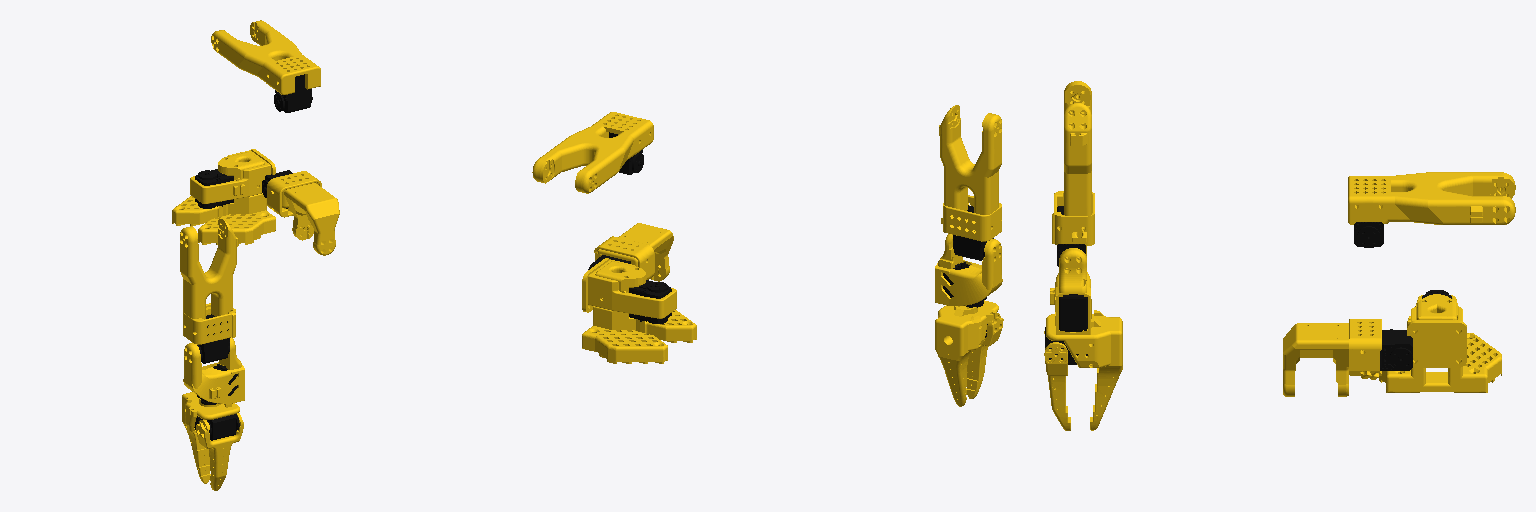
URDF robot description (so101_follower):
<?xml version="1.0" encoding="utf-8"?>
<!-- Generated using onshape-to-robot -->
<!-- Onshape document_id: 8f481cee516ba3c20e3a95ba -->
<robot name="so101_follower">

  <!-- Materials -->
  <material name="3d_printed">
    <color rgba="1.0 0.82 0.12 1.0"/>
  </material>
  <material name="sts3215">
    <color rgba="0.1 0.1 0.1 1.0"/>
  </material>

  <!-- Link base -->
  <link name="base_link">
    <inertial>
      <origin xyz="0 0 0" rpy="0 0 0"/>
      <mass value="0.147"/>
      <inertia ixx="0.000114686" ixy="-4.59787e-07" ixz="4.97151e-06" iyy="0.000136117" iyz="9.75275e-08" izz="0.000130364"/>
    </inertial>
    <!-- Part sts3215_03a_v1_5 -->
    <visual>
      <origin xyz="0.0125 -2.59846e-17 -0.0187" rpy="-1.7352e-15 4.18253e-17 3.14159"/>
      <geometry>
        <mesh filename="package://so101_description/onshape/assets/sts3215_03a_v1.stl"/>
      </geometry>
      <material name="sts3215"/>
    </visual>
    <collision>
      <origin xyz="0.0125 -2.59846e-17 -0.0187" rpy="-1.7352e-15 4.18253e-17 3.14159"/>
      <geometry>
        <mesh filename="package://so101_description/onshape/assets/sts3215_03a_v1.stl"/>
      </geometry>
    </collision>
    <!-- Part waveshare_mounting_plate_so101_v2 -->
    <visual>
      <origin xyz="0.0698624 0.0001 -0.015" rpy="1.5708 -3.8633e-14 -1.5708"/>
      <geometry>
        <mesh filename="package://so101_description/onshape/assets/waveshare_mounting_plate_so101_v2.stl"/>
      </geometry>
      <material name="3d_printed"/>
    </visual>
    <collision>
      <origin xyz="0.0698624 0.0001 -0.015" rpy="1.5708 -3.8633e-14 -1.5708"/>
      <geometry>
        <mesh filename="package://so101_description/onshape/assets/waveshare_mounting_plate_so101_v2.stl"/>
      </geometry>
    </collision>
    <!-- Part base_motor_holder_so101_v1 -->
    <visual>
      <origin xyz="0.0452 -1.04955e-16 -0.0648" rpy="1.5708 1.61129e-15 -1.5708"/>
      <geometry>
        <mesh filename="package://so101_description/onshape/assets/base_motor_holder_so101_v1.stl"/>
      </geometry>
      <material name="3d_printed"/>
    </visual>
    <collision>
      <origin xyz="0.0452 -1.04955e-16 -0.0648" rpy="1.5708 1.61129e-15 -1.5708"/>
      <geometry>
        <mesh filename="package://so101_description/onshape/assets/base_motor_holder_so101_v1.stl"/>
      </geometry>
    </collision>
    <!-- Part base_so101_v2 -->
    <visual>
      <origin xyz="0.0452 -9.97509e-17 -0.0648" rpy="1.5708 1.7352e-15 -1.5708"/>
      <geometry>
        <mesh filename="package://so101_description/onshape/assets/base_so101_v2.stl"/>
      </geometry>
      <material name="3d_printed"/>
    </visual>
    <collision>
      <origin xyz="0.0452 -9.97509e-17 -0.0648" rpy="1.5708 1.7352e-15 -1.5708"/>
      <geometry>
        <mesh filename="package://so101_description/onshape/assets/base_so101_v2.stl"/>
      </geometry>
    </collision>
  </link>

  <!-- Link shoulder -->
  <link name="shoulder_link">
    <inertial>
      <origin xyz="0 0 0" rpy="0 0 0"/>
      <mass value="0.100006"/>
      <inertia ixx="8.3759e-05" ixy="7.55525e-08" ixz="-1.16342e-06" iyy="8.10403e-05" iyz="1.54663e-07" izz="2.39783e-05"/>
    </inertial>
    <!-- Part sts3215_03a_v1_4 -->
    <visual>
      <origin xyz="0.0125 1.38778e-16 -0.0187" rpy="-9.23216e-31 3.33294e-29 -3.14159"/>
      <geometry>
        <mesh filename="package://so101_description/onshape/assets/sts3215_03a_v1.stl"/>
      </geometry>
      <material name="sts3215"/>
    </visual>
    <collision>
      <origin xyz="0.0125 1.38778e-16 -0.0187" rpy="-9.23216e-31 3.33294e-29 -3.14159"/>
      <geometry>
        <mesh filename="package://so101_description/onshape/assets/sts3215_03a_v1.stl"/>
      </geometry>
    </collision>
    <!-- Part motor_holder_so101_base_v1 -->
    <visual>
      <origin xyz="0.0700499 0.0372 -0.0181" rpy="-3.20577e-15 9.4369e-15 1.16575e-14"/>
      <geometry>
        <mesh filename="package://so101_description/onshape/assets/motor_holder_so101_base_v1.stl"/>
      </geometry>
      <material name="3d_printed"/>
    </visual>
    <collision>
      <origin xyz="0.0700499 0.0372 -0.0181" rpy="-3.20577e-15 9.4369e-15 1.16575e-14"/>
      <geometry>
        <mesh filename="package://so101_description/onshape/assets/motor_holder_so101_base_v1.stl"/>
      </geometry>
    </collision>
    <!-- Part rotation_pitch_so101_v1 -->
    <visual>
      <origin xyz="0.1006 -0.0426 -0.0183" rpy="3.14159 3.46945e-16 -1.5708"/>
      <geometry>
        <mesh filename="package://so101_description/onshape/assets/rotation_pitch_so101_v1.stl"/>
      </geometry>
      <material name="3d_printed"/>
    </visual>
    <collision>
      <origin xyz="0.1006 -0.0426 -0.0183" rpy="3.14159 3.46945e-16 -1.5708"/>
      <geometry>
        <mesh filename="package://so101_description/onshape/assets/rotation_pitch_so101_v1.stl"/>
      </geometry>
    </collision>
  </link>

  <!-- Link upper_arm -->
  <link name="upper_arm_link">
    <inertial>
      <origin xyz="0 0 0" rpy="0 0 0"/>
      <mass value="0.103"/>
      <inertia ixx="4.08002e-05" ixy="-1.97819e-05" ixz="-4.03016e-08" iyy="0.000147318" iyz="8.97326e-09" izz="0.000142487"/>
    </inertial>
    <!-- Part sts3215_03a_v1_3 -->
    <visual>
      <origin xyz="0.0125 2.77556e-17 -0.0187" rpy="2.16937e-29 -2.87611e-30 3.14159"/>
      <geometry>
        <mesh filename="package://so101_description/onshape/assets/sts3215_03a_v1.stl"/>
      </geometry>
      <material name="sts3215"/>
    </visual>
    <collision>
      <origin xyz="0.0125 2.77556e-17 -0.0187" rpy="2.16937e-29 -2.87611e-30 3.14159"/>
      <geometry>
        <mesh filename="package://so101_description/onshape/assets/sts3215_03a_v1.stl"/>
      </geometry>
    </collision>
    <!-- Part upper_arm_so101_v1 -->
    <visual>
      <origin xyz="0.04 0.047485 -0.0182" rpy="2.87611e-30 -1.02552e-29 1.5708"/>
      <geometry>
        <mesh filename="package://so101_description/onshape/assets/upper_arm_so101_v1.stl"/>
      </geometry>
      <material name="3d_printed"/>
    </visual>
    <collision>
      <origin xyz="0.04 0.047485 -0.0182" rpy="2.87611e-30 -1.02552e-29 1.5708"/>
      <geometry>
        <mesh filename="package://so101_description/onshape/assets/upper_arm_so101_v1.stl"/>
      </geometry>
    </collision>
  </link>

  <!-- Link lower_arm -->
  <link name="lower_arm_link">
    <inertial>
      <origin xyz="0 0 0" rpy="0 0 0"/>
      <mass value="0.104"/>
      <inertia ixx="2.87438e-05" ixy="7.41152e-06" ixz="1.26409e-06" iyy="0.000159844" iyz="-4.90188e-08" izz="0.00014529"/>
    </inertial>
    <!-- Part under_arm_so101_v1 -->
    <visual>
      <origin xyz="0.162084 -7.77677e-05 0.19717" rpy="-1.5708 -1.16157e-14 -3.14159"/>
      <geometry>
        <mesh filename="package://so101_description/onshape/assets/under_arm_so101_v1.stl"/>
      </geometry>
      <material name="3d_printed"/>
    </visual>
    <collision>
      <origin xyz="0.162084 -7.77677e-05 0.19717" rpy="-1.5708 -1.16157e-14 -3.14159"/>
      <geometry>
        <mesh filename="package://so101_description/onshape/assets/under_arm_so101_v1.stl"/>
      </geometry>
    </collision>
    <!-- Part motor_holder_so101_wrist_v1 -->
    <visual>
      <origin xyz="0.162084 2.22323e-05 0.19717" rpy="-1.5708 -1.16157e-14 -3.14159"/>
      <geometry>
        <mesh filename="package://so101_description/onshape/assets/motor_holder_so101_wrist_v1.stl"/>
      </geometry>
      <material name="3d_printed"/>
    </visual>
    <collision>
      <origin xyz="0.162084 2.22323e-05 0.19717" rpy="-1.5708 -1.16157e-14 -3.14159"/>
      <geometry>
        <mesh filename="package://so101_description/onshape/assets/motor_holder_so101_wrist_v1.stl"/>
      </geometry>
    </collision>
    <!-- Part sts3215_03a_v1 -->
    <visual>
      <origin xyz="0.219634 0.000422232 0.23437" rpy="1.5708 1.16157e-14 4.996e-15"/>
      <geometry>
        <mesh filename="package://so101_description/onshape/assets/sts3215_03a_v1.stl"/>
      </geometry>
      <material name="sts3215"/>
    </visual>
    <collision>
      <origin xyz="0.219634 0.000422232 0.23437" rpy="1.5708 1.16157e-14 4.996e-15"/>
      <geometry>
        <mesh filename="package://so101_description/onshape/assets/sts3215_03a_v1.stl"/>
      </geometry>
    </collision>
  </link>

  <!-- Link wrist -->
  <link name="wrist_link">
    <inertial>
      <origin xyz="0 0 0" rpy="0 0 0"/>
      <mass value="0.079"/>
      <inertia ixx="3.68263e-05" ixy="1.7893e-08" ixz="-5.28128e-08" iyy="2.5391e-05" iyz="3.6412e-06" izz="2.1e-05"/>
    </inertial>
    <!-- Part wrist_roll_pitch_so101_v2 -->
    <visual>
      <origin xyz="0.0013672 -0.0290022 0.0181" rpy="-1.5708 -1.5708 0"/>
      <geometry>
        <mesh filename="package://so101_description/onshape/assets/wrist_roll_pitch_so101_v2.stl"/>
      </geometry>
      <material name="3d_printed"/>
    </visual>
    <collision>
      <origin xyz="0.0013672 -0.0290022 0.0181" rpy="-1.5708 -1.5708 0"/>
      <geometry>
        <mesh filename="package://so101_description/onshape/assets/wrist_roll_pitch_so101_v2.stl"/>
      </geometry>
    </collision>
    <!-- Part sts3215_03a_no_horn_v1 -->
    <visual>
      <origin xyz="0.0013672 -0.0434022 0.0306" rpy="1.5708 1.5708 0"/>
      <geometry>
        <mesh filename="package://so101_description/onshape/assets/sts3215_03a_no_horn_v1.stl"/>
      </geometry>
      <material name="sts3215"/>
    </visual>
    <collision>
      <origin xyz="0.0013672 -0.0434022 0.0306" rpy="1.5708 1.5708 0"/>
      <geometry>
        <mesh filename="package://so101_description/onshape/assets/sts3215_03a_no_horn_v1.stl"/>
      </geometry>
    </collision>
  </link>

  <!-- Link gripper -->
  <link name="gripper_link">
    <inertial>
      <origin xyz="0 0 0" rpy="0 0 0"/>
      <mass value="0.087"/>
      <inertia ixx="2.75087e-05" ixy="-3.35241e-07" ixz="-5.7352e-06" iyy="4.33657e-05" iyz="-5.17847e-08" izz="3.45059e-05"/>
    </inertial>
    <!-- Part wrist_roll_follower_so101_v1 -->
    <visual>
      <origin xyz="-0.00665289 0.00415995 0.000949706" rpy="3.14159 -5.55112e-17 0"/>
      <geometry>
        <mesh filename="package://so101_description/onshape/assets/wrist_roll_follower_so101_v1.stl"/>
      </geometry>
      <material name="3d_printed"/>
    </visual>
    <collision>
      <origin xyz="-0.00665289 0.00415995 0.000949706" rpy="3.14159 -5.55112e-17 0"/>
      <geometry>
        <mesh filename="package://so101_description/onshape/assets/wrist_roll_follower_so101_v1.stl"/>
      </geometry>
    </collision>
    <!-- Part sts3215_03a_v1_2 -->
    <visual>
      <origin xyz="0.00104711 0.00447817 -0.0234" rpy="-1.5708 -5.55111e-17 6.93889e-17"/>
      <geometry>
        <mesh filename="package://so101_description/onshape/assets/sts3215_03a_v1.stl"/>
      </geometry>
      <material name="sts3215"/>
    </visual>
    <collision>
      <origin xyz="0.00104711 0.00447817 -0.0234" rpy="-1.5708 -5.55111e-17 6.93889e-17"/>
      <geometry>
        <mesh filename="package://so101_description/onshape/assets/sts3215_03a_v1.stl"/>
      </geometry>
    </collision>
  </link>

  <!-- Gripper frame (dummy link + fixed joint) -->
  <link name="gripper_frame_link">
    <origin xyz="0 0 0" rpy="0 -0 0"/>
    <inertial>
      <origin xyz="0 0 0" rpy="0 0 0"/>
      <mass value="1e-9"/>
      <inertia ixx="0" ixy="0" ixz="0" iyy="0" iyz="0" izz="0"/>
    </inertial>
  </link>

  <joint name="gripper_frame_joint" type="fixed">
    <origin xyz="-0.0145529 0.00416005 -0.0981274" rpy="-1.5708 -1.88934e-31 -1.5708"/>
    <parent link="gripper_link"/>
    <child link="gripper_frame_link"/>
    <axis xyz="0 0 0"/>
  </joint>

  <!-- Link moving_jaw_so101_v1 -->
  <link name="moving_jaw_so101_v1_link">
    <inertial>
      <origin xyz="0 0 0" rpy="0 0 0"/>
      <mass value="0.012"/>
      <inertia ixx="6.61427e-06" ixy="-3.19807e-07" ixz="-5.90717e-09" iyy="1.89032e-06" iyz="-1.09945e-07" izz="5.28738e-06"/>
    </inertial>
    <!-- Part moving_jaw_so101_v1 -->
    <visual>
      <origin xyz="0.000944164 0.000490603 0.0189" rpy="9.53145e-17 -0 0"/>
      <geometry>
        <mesh filename="package://so101_description/onshape/assets/moving_jaw_so101_v1.stl"/>
      </geometry>
      <material name="3d_printed"/>
    </visual>
    <collision>
      <origin xyz="0.000944164 0.000490603 0.0189" rpy="9.53145e-17 -0 0"/>
      <geometry>
        <mesh filename="package://so101_description/onshape/assets/moving_jaw_so101_v1.stl"/>
      </geometry>
    </collision>
  </link>

  <!-- Joint from gripper to moving_jaw_so101_v1 -->
  <joint name="gripper" type="revolute">
    <origin xyz="0.0135471 0.0231782 -0.0234" rpy="1.5708 -5.55107e-17 2.01228e-16"/>
    <parent link="gripper_link"/>
    <child link="moving_jaw_so101_v1_link"/>
    <axis xyz="0 0 1"/>
    <limit effort="10" velocity="10" lower="-0.174533" upper="1.74533"/>
  </joint>

  <transmission name="gripper_trans">
    <type>transmission_interface/SimpleTransmission</type>
    <joint name="gripper">
      <hardwareInterface>hardware_interface/PositionJointInterface</hardwareInterface>
    </joint>
    <actuator name="motor6">
      <hardwareInterface>hardware_interface/PositionJointInterface</hardwareInterface>
      <mechanicalReduction>1</mechanicalReduction>
    </actuator>
  </transmission>

  <!-- Joint from wrist to gripper -->
  <joint name="wrist_roll" type="revolute">
    <origin xyz="0.0013672 -0.0621022 0.0181" rpy="1.5708 2.72806e-17 -3.14159"/>
    <parent link="wrist_link"/>
    <child link="gripper_link"/>
    <axis xyz="0 0 1"/>
    <limit effort="10" velocity="10" lower="-2.74385" upper="2.84121"/>
  </joint>

  <transmission name="wrist_roll_trans">
    <type>transmission_interface/SimpleTransmission</type>
    <joint name="wrist_roll">
      <hardwareInterface>hardware_interface/PositionJointInterface</hardwareInterface>
    </joint>
    <actuator name="motor5">
      <hardwareInterface>hardware_interface/PositionJointInterface</hardwareInterface>
      <mechanicalReduction>1</mechanicalReduction>
    </actuator>
  </transmission>

  <!-- Joint from lower_arm to wrist -->
  <joint name="wrist_flex" type="revolute">
    <origin xyz="0.232134 -0.0182778 0.23437" rpy="-1.5708 1.5708 0"/>
    <parent link="lower_arm_link"/>
    <child link="wrist_link"/>
    <axis xyz="0 0 1"/>
    <limit effort="10" velocity="10" lower="-1.65806" upper="1.65806"/>
  </joint>

  <transmission name="wrist_flex_trans">
    <type>transmission_interface/SimpleTransmission</type>
    <joint name="wrist_flex">
      <hardwareInterface>hardware_interface/PositionJointInterface</hardwareInterface>
    </joint>
    <actuator name="motor4">
      <hardwareInterface>hardware_interface/PositionJointInterface</hardwareInterface>
      <mechanicalReduction>1</mechanicalReduction>
    </actuator>
  </transmission>

  <!-- Joint from upper_arm to lower_arm -->
  <joint name="elbow_flex" type="revolute">
    <origin xyz="0.0959629 -0.0182778 0.22968" rpy="-1.5708 -1.16157e-14 -3.14159"/>
    <parent link="upper_arm_link"/>
    <child link="lower_arm_link"/>
    <axis xyz="0 0 1"/>
    <limit effort="10" velocity="10" lower="-1.69" upper="1.69"/>
  </joint>

  <transmission name="elbow_flex_trans">
    <type>transmission_interface/SimpleTransmission</type>
    <joint name="elbow_flex">
      <hardwareInterface>hardware_interface/PositionJointInterface</hardwareInterface>
    </joint>
    <actuator name="motor3">
      <hardwareInterface>hardware_interface/PositionJointInterface</hardwareInterface>
      <mechanicalReduction>1</mechanicalReduction>
    </actuator>
  </transmission>

  <!-- Joint from shoulder to upper_arm -->
  <joint name="shoulder_lift" type="revolute">
    <origin xyz="0.0274904 0.113842 1.04083e-17" rpy="2.87611e-30 -1.02552e-29 1.5708"/>
    <parent link="shoulder_link"/>
    <child link="upper_arm_link"/>
    <axis xyz="0 0 1"/>
    <limit effort="10" velocity="10" lower="-1.74533" upper="1.74533"/>
  </joint>

  <transmission name="shoulder_lift_trans">
    <type>transmission_interface/SimpleTransmission</type>
    <joint name="shoulder_lift">
      <hardwareInterface>hardware_interface/PositionJointInterface</hardwareInterface>
    </joint>
    <actuator name="motor2">
      <hardwareInterface>hardware_interface/PositionJointInterface</hardwareInterface>
      <mechanicalReduction>1</mechanicalReduction>
    </actuator>
  </transmission>

  <!-- Joint from base to shoulder -->
  <joint name="shoulder_pan" type="revolute">
    <origin xyz="0.0542 -0.0303992 -0.0182778" rpy="1.5708 3.46945e-16 -1.5708"/>
    <parent link="base_link"/>
    <child link="shoulder_link"/>
    <axis xyz="0 0 1"/>
    <limit effort="10" velocity="10" lower="-1.91986" upper="1.91986"/>
  </joint>

  <transmission name="shoulder_pan_trans">
    <type>transmission_interface/SimpleTransmission</type>
    <joint name="shoulder_pan">
      <hardwareInterface>hardware_interface/PositionJointInterface</hardwareInterface>
    </joint>
    <actuator name="motor1">
      <hardwareInterface>hardware_interface/PositionJointInterface</hardwareInterface>
      <mechanicalReduction>1</mechanicalReduction>
    </actuator>
  </transmission>

</robot>

--- Facts derived from the render (not from the file) ---
Views: 3 orthographic renders of the robot side by side, from view 1: azimuth 30°, elevation 25°; view 2: azimuth 150°, elevation 25°; view 3: azimuth 270°, elevation 25°.
Robot: so101_follower — 8 links, 7 joints (6 revolute, 1 fixed); root link base_link; default pose: all joints at 0.
Visible links, largest first — view 1: base_link, lower_arm_link, upper_arm_link, shoulder_link, wrist_link, gripper_link, moving_jaw_so101_v1_link; view 2: base_link, lower_arm_link, upper_arm_link, gripper_link, wrist_link, shoulder_link, moving_jaw_so101_v1_link; view 3: upper_arm_link, base_link, shoulder_link, lower_arm_link, gripper_link, wrist_link, moving_jaw_so101_v1_link.
Link boxes in pixels (<box>): base_link: <box>172,149,275,244</box>; lower_arm_link: <box>180,219,238,363</box>; upper_arm_link: <box>211,20,320,112</box>; shoulder_link: <box>262,170,339,255</box>; wrist_link: <box>183,337,244,407</box>; gripper_link: <box>182,392,239,483</box>; moving_jaw_so101_v1_link: <box>196,413,243,490</box>; base_link: <box>582,258,696,363</box>; lower_arm_link: <box>939,105,1001,260</box>; upper_arm_link: <box>532,112,653,193</box>; gripper_link: <box>935,300,998,406</box>; wrist_link: <box>935,234,1002,307</box>; shoulder_link: <box>588,223,673,281</box>; moving_jaw_so101_v1_link: <box>966,313,1003,398</box>; upper_arm_link: <box>1348,172,1515,247</box>; base_link: <box>1379,290,1501,392</box>; shoulder_link: <box>1283,319,1412,396</box>; lower_arm_link: <box>1052,81,1094,266</box>; gripper_link: <box>1045,310,1122,430</box>; wrist_link: <box>1050,246,1091,334</box>; moving_jaw_so101_v1_link: <box>1044,331,1070,430</box>.
Size in the robot's own frame: 0.3138 by 0.4003 by 0.3432 metres.
17 mesh visuals loaded from 13 distinct referenced files (13 binary STL).